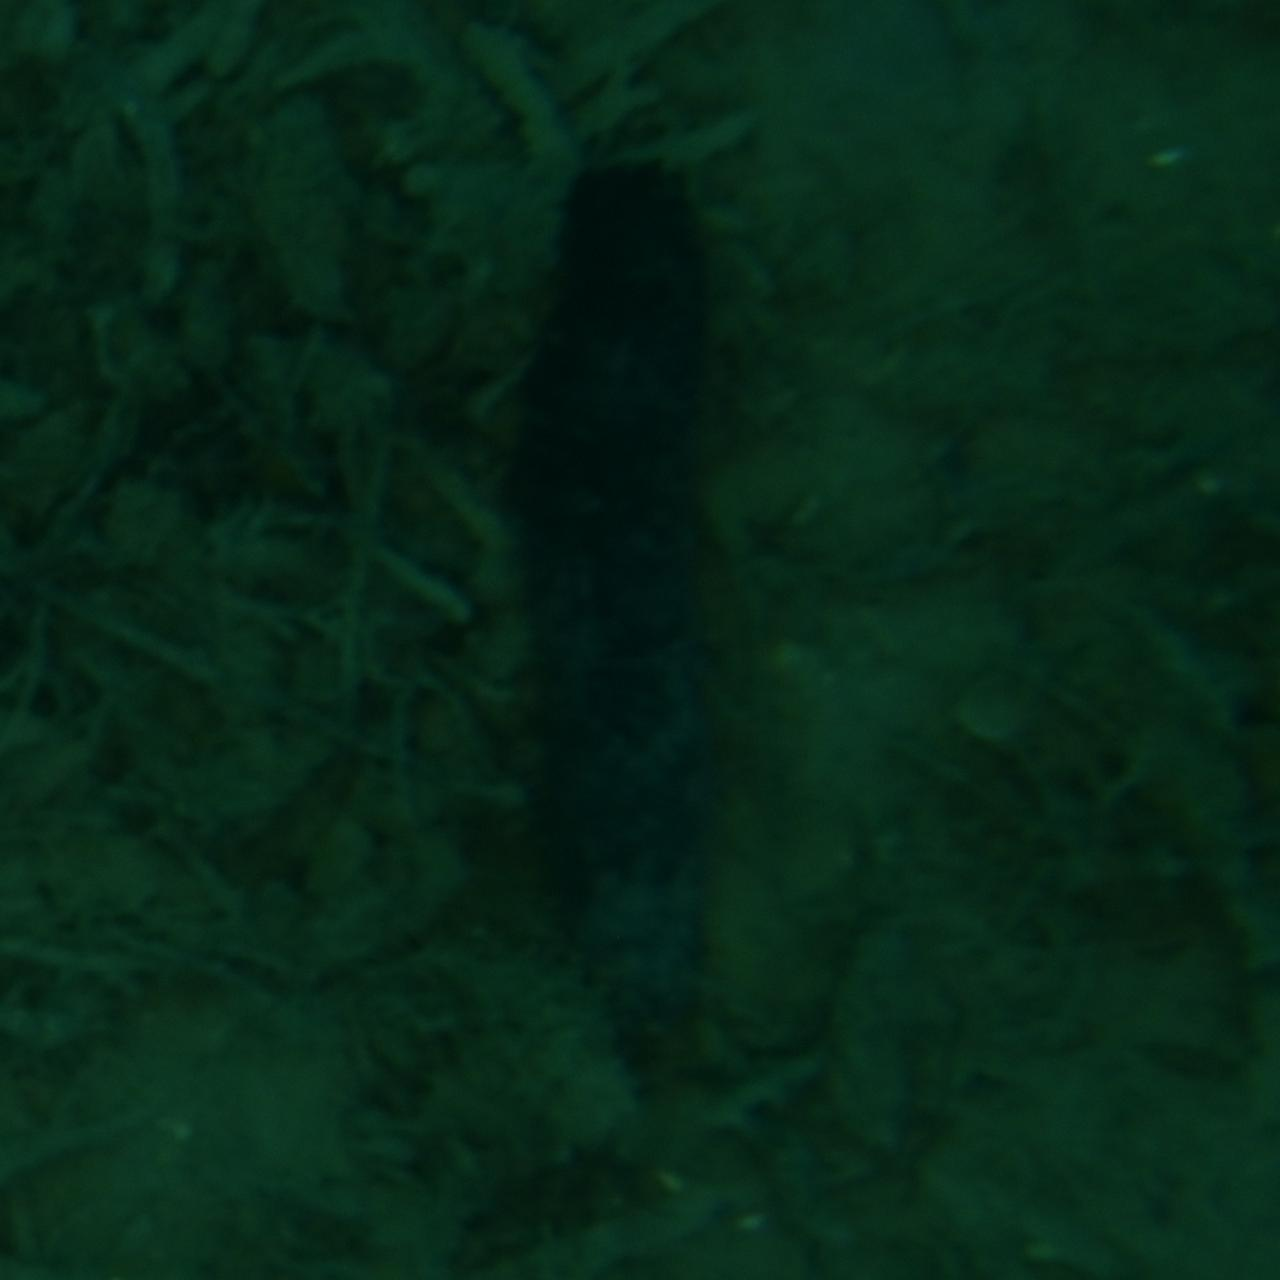Holothuria tubulosa: (527, 145, 753, 1135)
